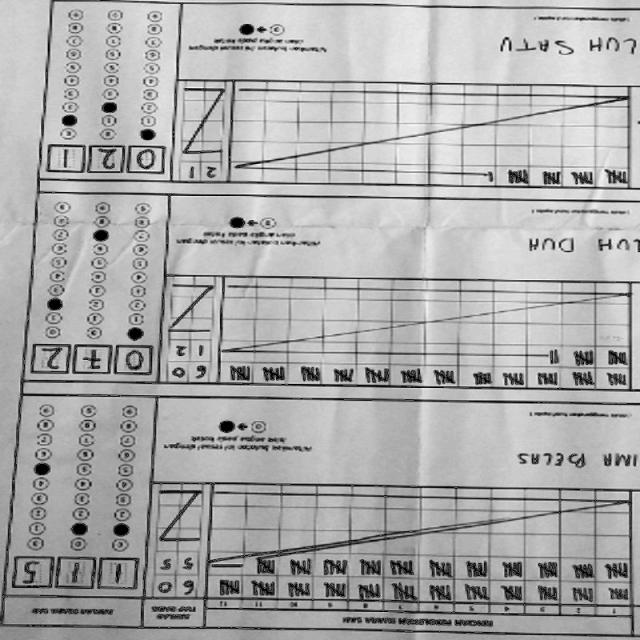Suara: (11, 551, 143, 595), (23, 342, 155, 386), (40, 142, 172, 186)
